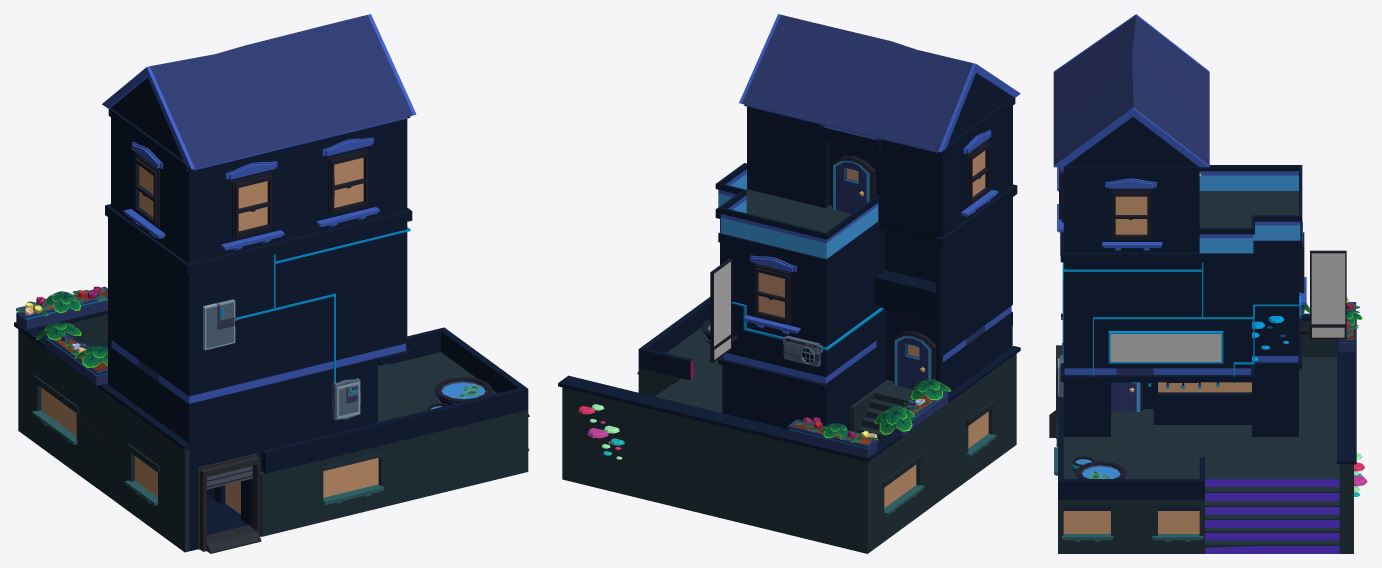
Rendered from BooksDump.fbx.
3 views of the same model, side by side, from view 1: azimuth 30°, elevation 25°; view 2: azimuth 150°, elevation 25°; view 3: azimuth 270°, elevation 25° (orthographic). The views are drawn at different scales.
Parts seen in each view (by area): view 1: Apartment 04, Cube.039, Cube.038, Cube.036, Planter.001, Cylinder.006, Planter.000; view 2: Apartment 04, Cube.041, Cube.035, Planter.001, Door_Blue, Door_Blue.001, Cube.036, Grass Clumpie.002, Planter.000, Cylinder.010, Grass Clumpie.001; view 3: Apartment 04, Cube.040, Cube.041, Cube.037, Door_Blue.002, Cylinder.006.
Boxes of the visible parts, x1,y1,x2,y2 form: Apartment 04: (14,14,529,553); Cube.039: (328,148,368,215); Cube.038: (232,172,272,238); Cube.036: (134,154,159,227); Planter.001: (16,286,107,329); Cylinder.006: (434,377,492,404); Planter.000: (44,332,107,385); Apartment 04: (558,14,1020,553); Cube.041: (710,258,737,362); Cube.035: (754,264,790,324); Planter.001: (787,419,878,457); Door_Blue: (897,337,928,391); Door_Blue.001: (836,162,866,213); Cube.036: (967,140,989,205); Grass Clumpie.002: (874,406,914,434); Planter.000: (891,388,949,436); Cylinder.010: (578,404,624,459); Grass Clumpie.001: (910,379,951,400); Apartment 04: (1049,14,1356,553); Cube.040: (1108,331,1223,363); Cube.041: (1299,250,1346,339); Cube.037: (1112,189,1151,239); Door_Blue.002: (1111,382,1136,411); Cylinder.006: (1075,461,1126,478).
Bounding box in the file's own units: 909 × 1096 × 798.
